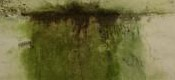Corrosion: (17, 1, 147, 80)
